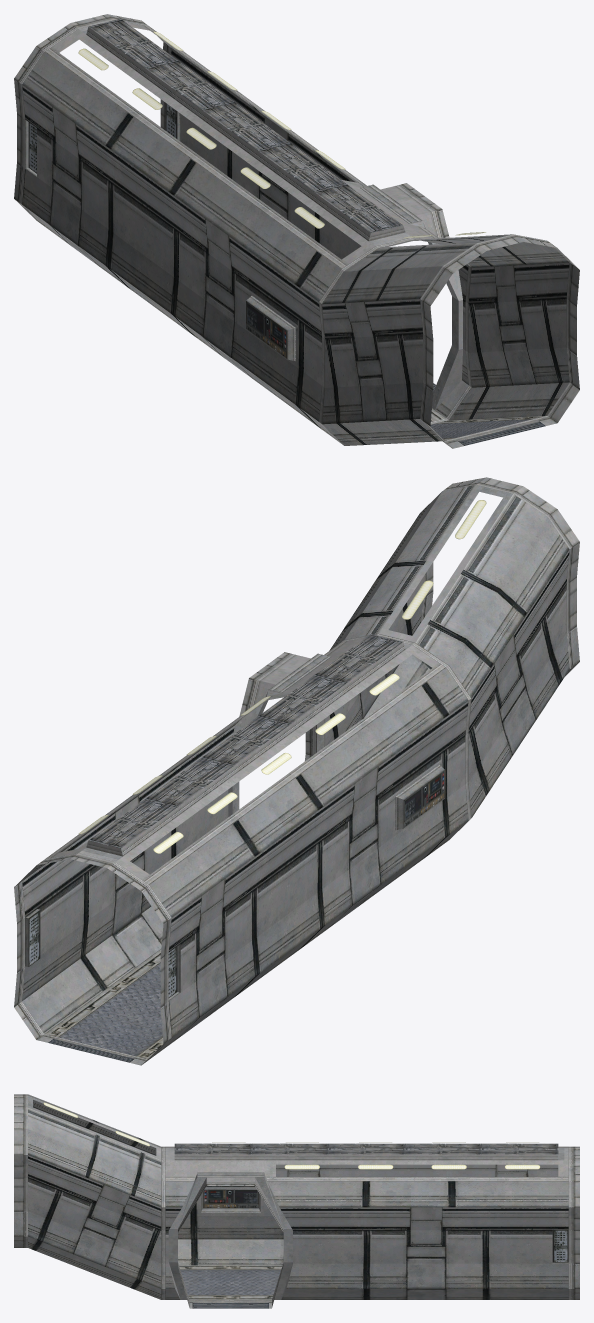
The model's file is ykl37r_r7_hallfore_mesh.fbx.
3 renders of one model, top to bottom at view 1: azimuth 30°, elevation 25°; view 2: azimuth 150°, elevation 25°; view 3: azimuth 270°, elevation 25°, orthographic. The views are drawn at different scales.
Parts seen in each view (by area): view 1: mesh_node; view 2: mesh_node; view 3: mesh_node.
Part boxes in pixels (<box>): mesh_node: <box>14,14,579,448</box>; mesh_node: <box>14,477,579,1065</box>; mesh_node: <box>14,1094,579,1308</box>.
Size of the model in its own units: 2.75 by 4.47 by 12.56.
